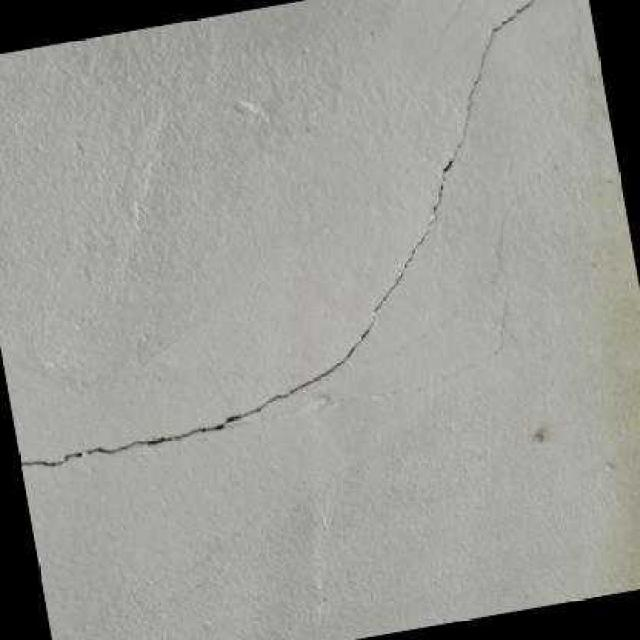D00: (20, 0, 534, 466)
